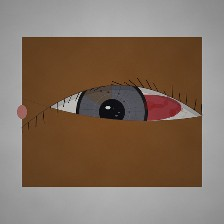hemorrhage_spot: (102, 71, 194, 145)
